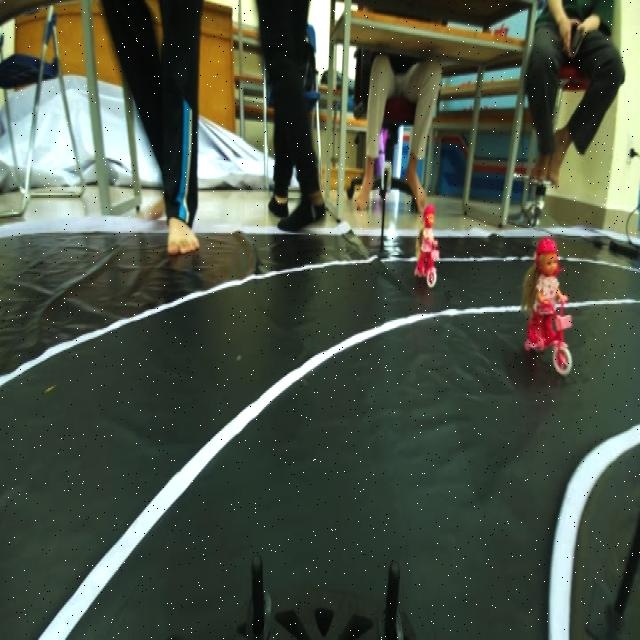pedestrian: (522, 234, 584, 384), (409, 195, 438, 287)
